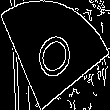O_SW: (30, 23, 80, 87)
